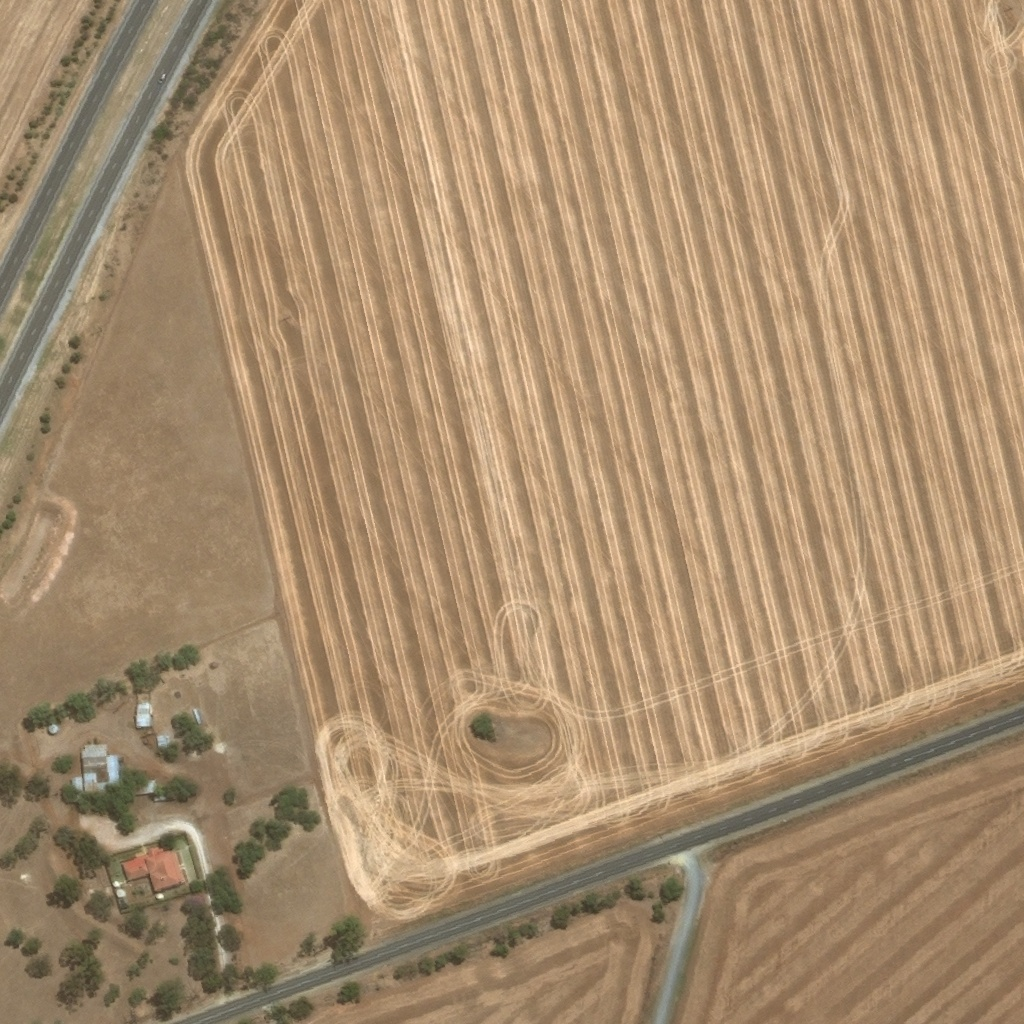0 no-damage: (122, 842, 185, 888), (81, 742, 121, 796), (136, 704, 152, 727), (133, 780, 154, 795), (157, 736, 169, 753), (69, 776, 83, 790), (48, 722, 58, 733), (116, 888, 126, 897), (156, 891, 164, 898), (113, 880, 119, 886)
